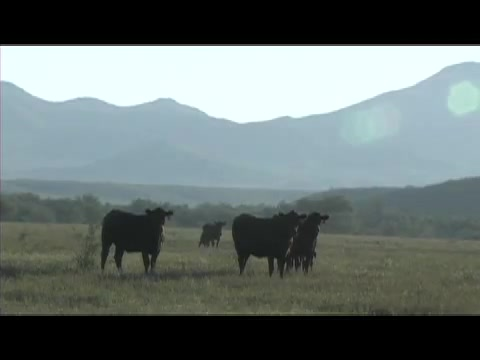cow: (231, 211, 310, 279), (100, 208, 177, 276), (284, 210, 332, 275), (199, 221, 228, 249)
